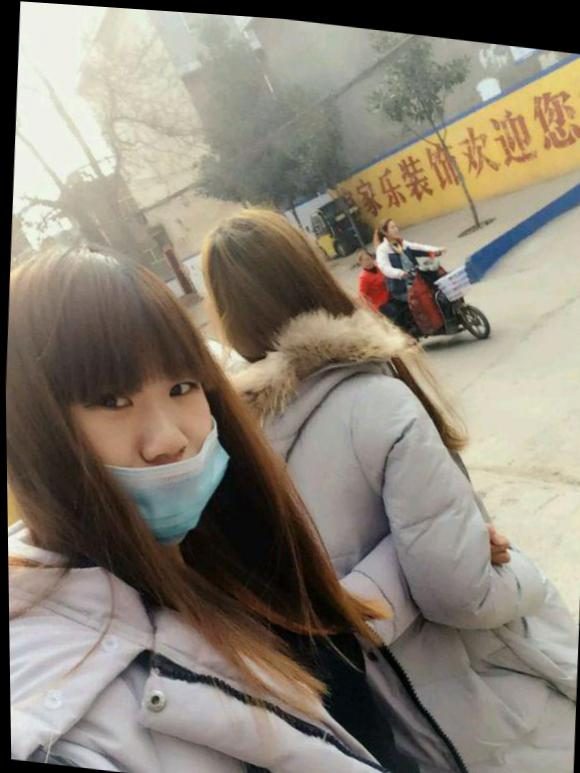NONE: (386, 216, 399, 234)
WRONG: (51, 337, 235, 528)
